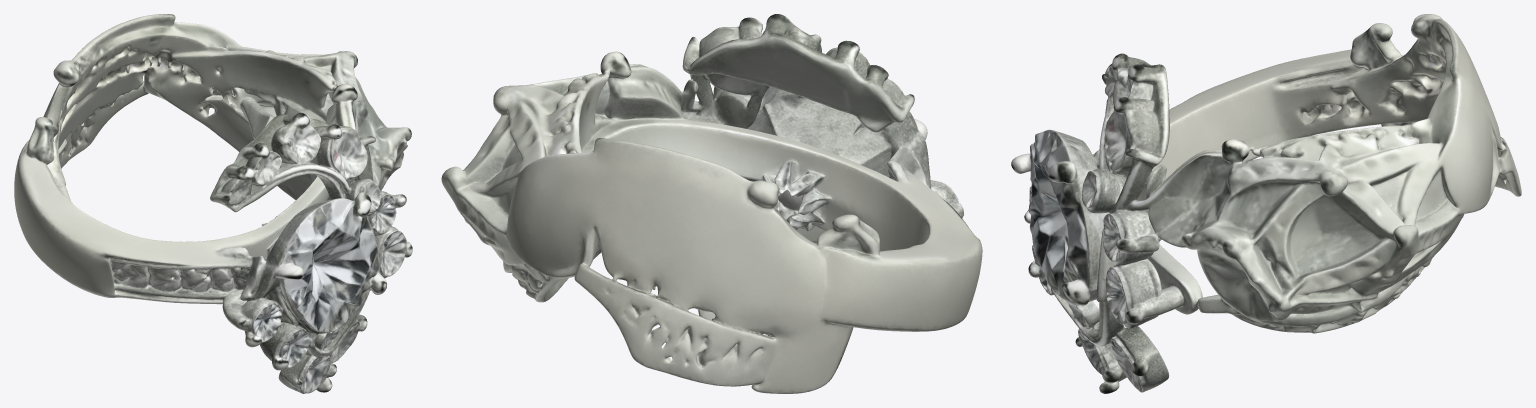
The picture shows the model from 3 angles, left to right: view 1: azimuth 30°, elevation 25°; view 2: azimuth 150°, elevation 25°; view 3: azimuth 270°, elevation 25°; orthographic projection. The views are drawn at different scales.
Size of the model in its own units: 0.8872 by 0.6437 by 0.9081.
1 material, 1 textured.
